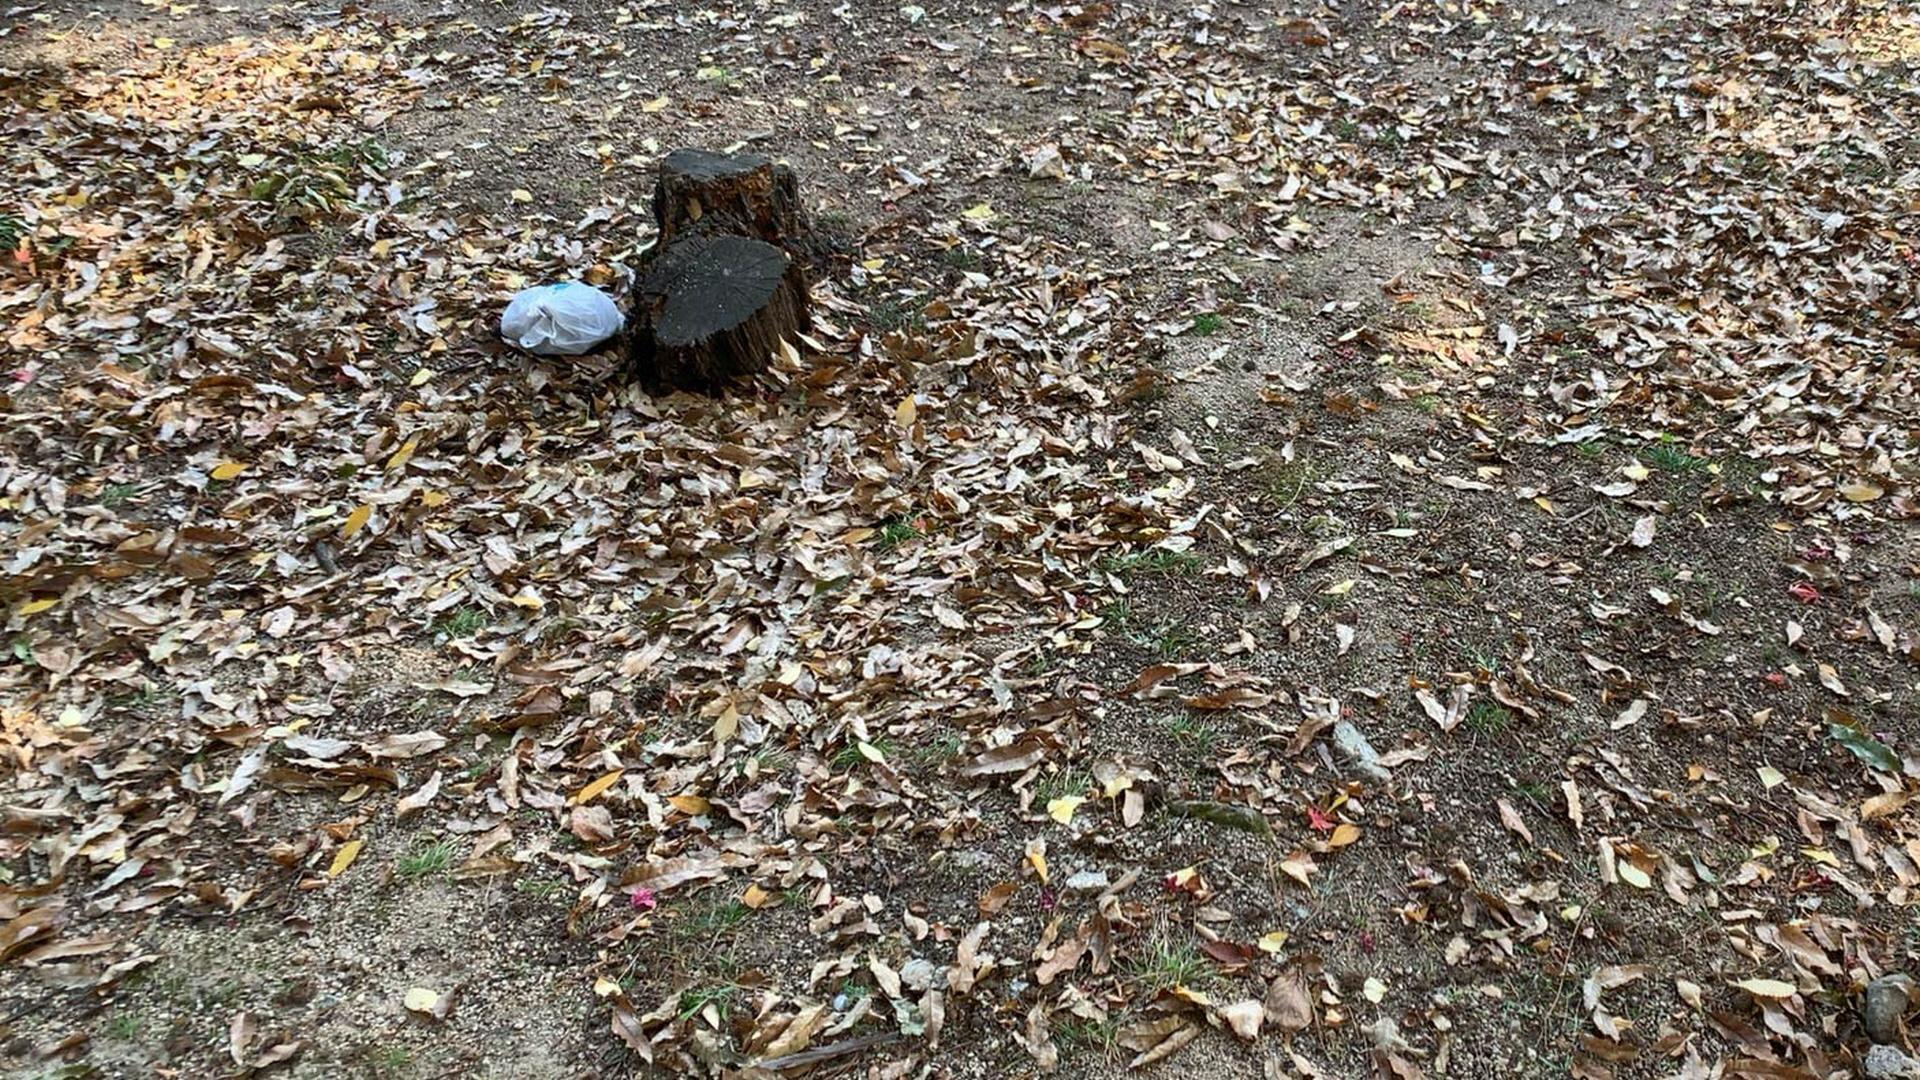white_bag: (495, 277, 628, 357)
